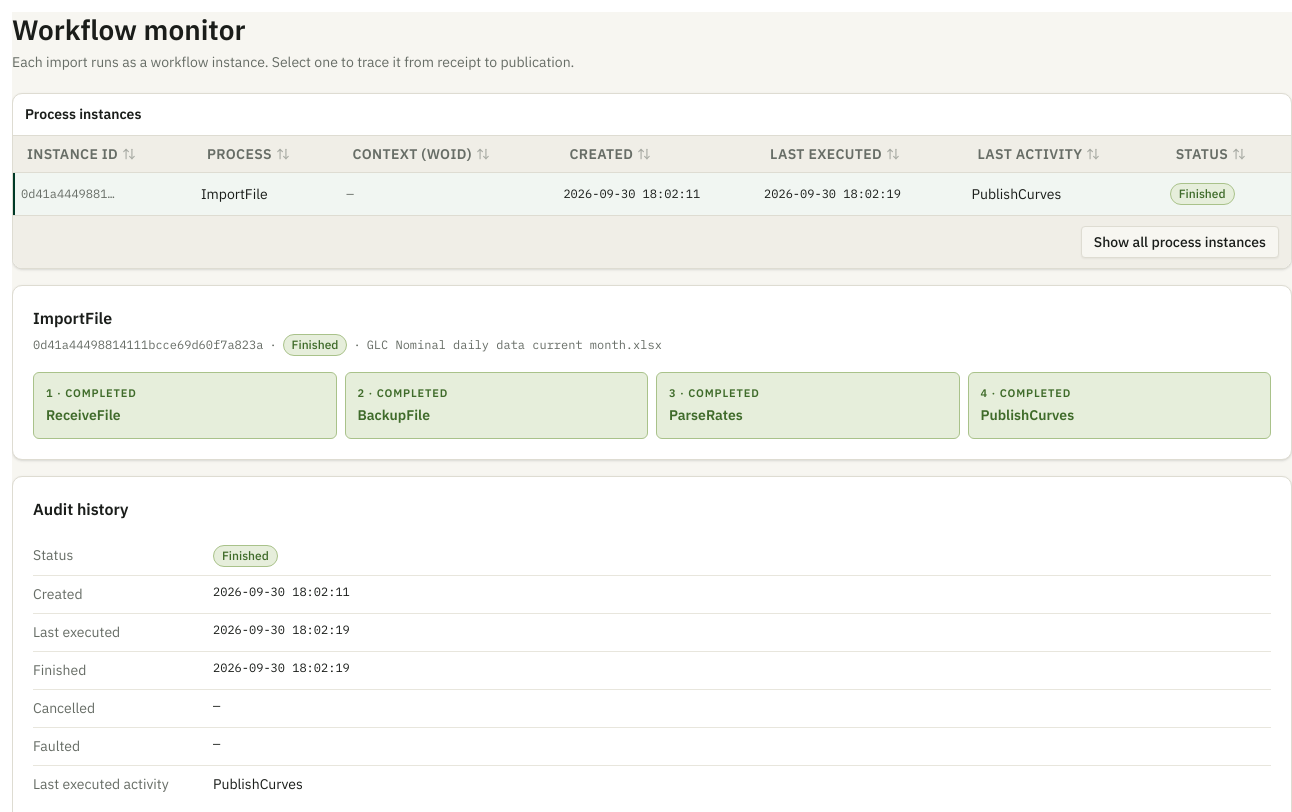
Epic workflow-monitor-and-api, Story 1: Process instance list › shows only the selected run with view=single, and "Show all process instances" restores the full list
This screenshot has width=1292, height=812.
Click the button "Show all process instances" at x=1180, y=242, box [1081,226,1279,258]
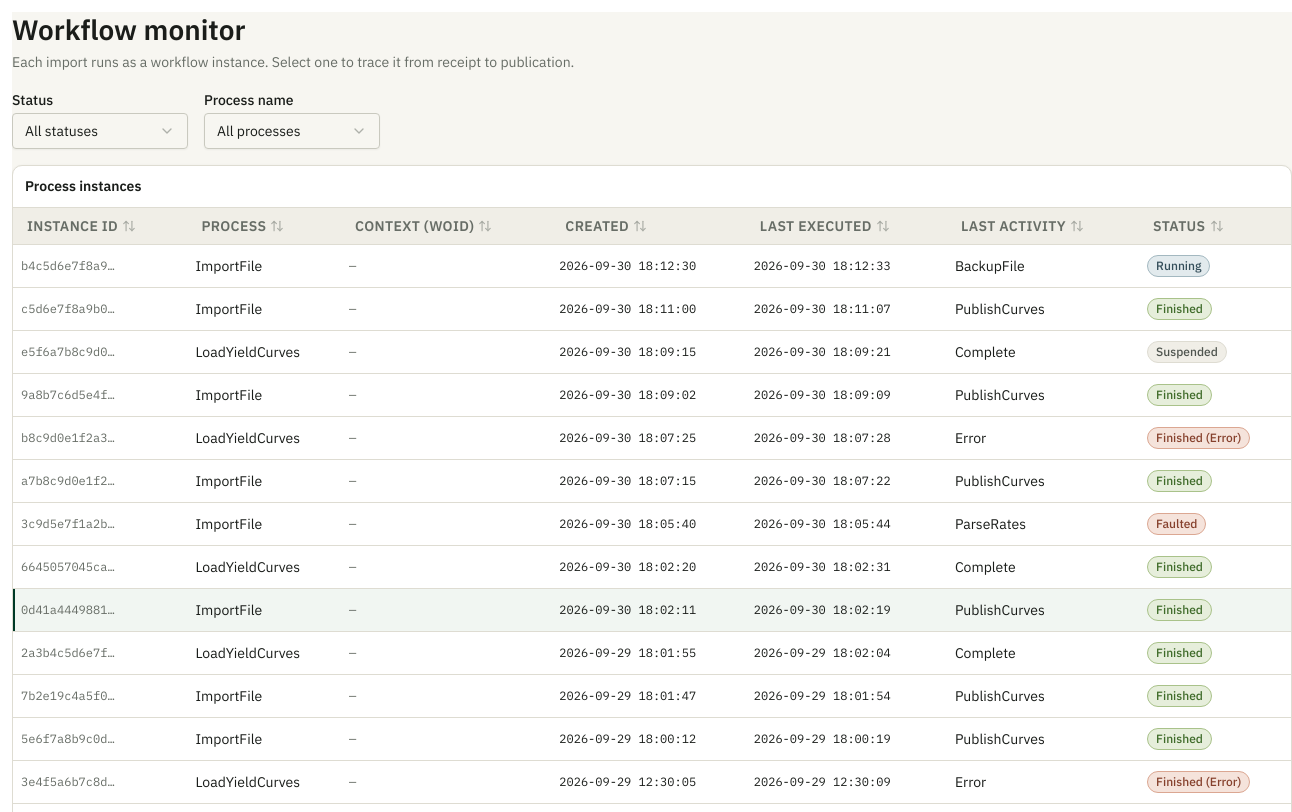
Check: the button "Show all process instances" is gone
